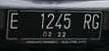clone-license-plate: (6, 8, 101, 41)
